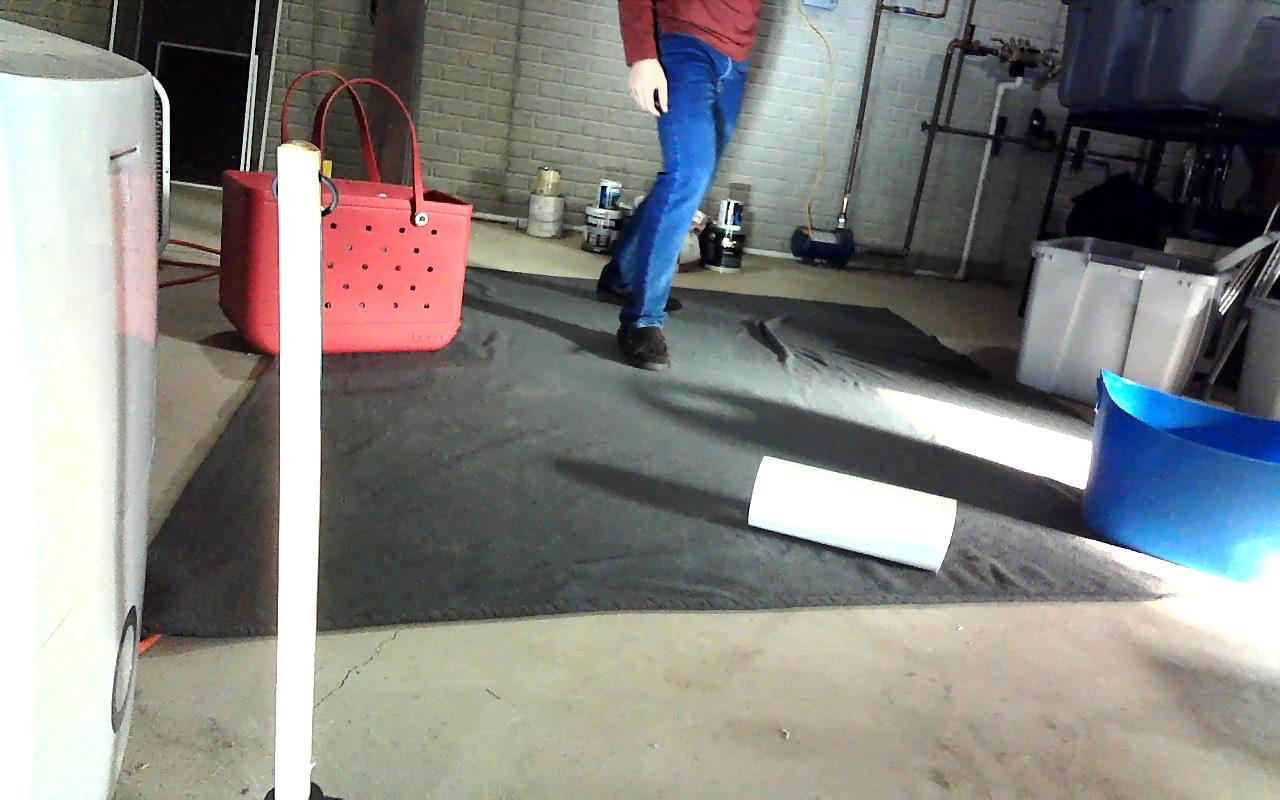coral: (748, 455, 957, 569)
